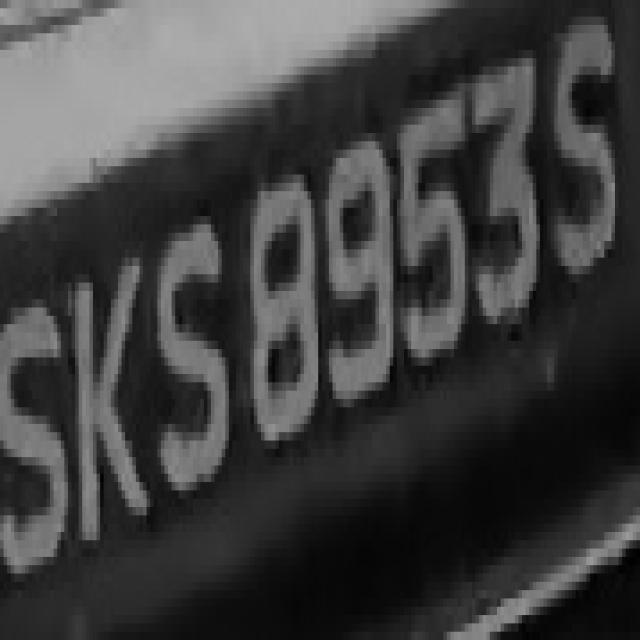3: (465, 42, 543, 349)
5: (393, 92, 472, 390)
8: (246, 150, 322, 473)
9: (311, 125, 401, 407)
K: (72, 224, 150, 566)
S: (157, 191, 236, 515), (4, 241, 72, 607), (540, 25, 622, 283)
